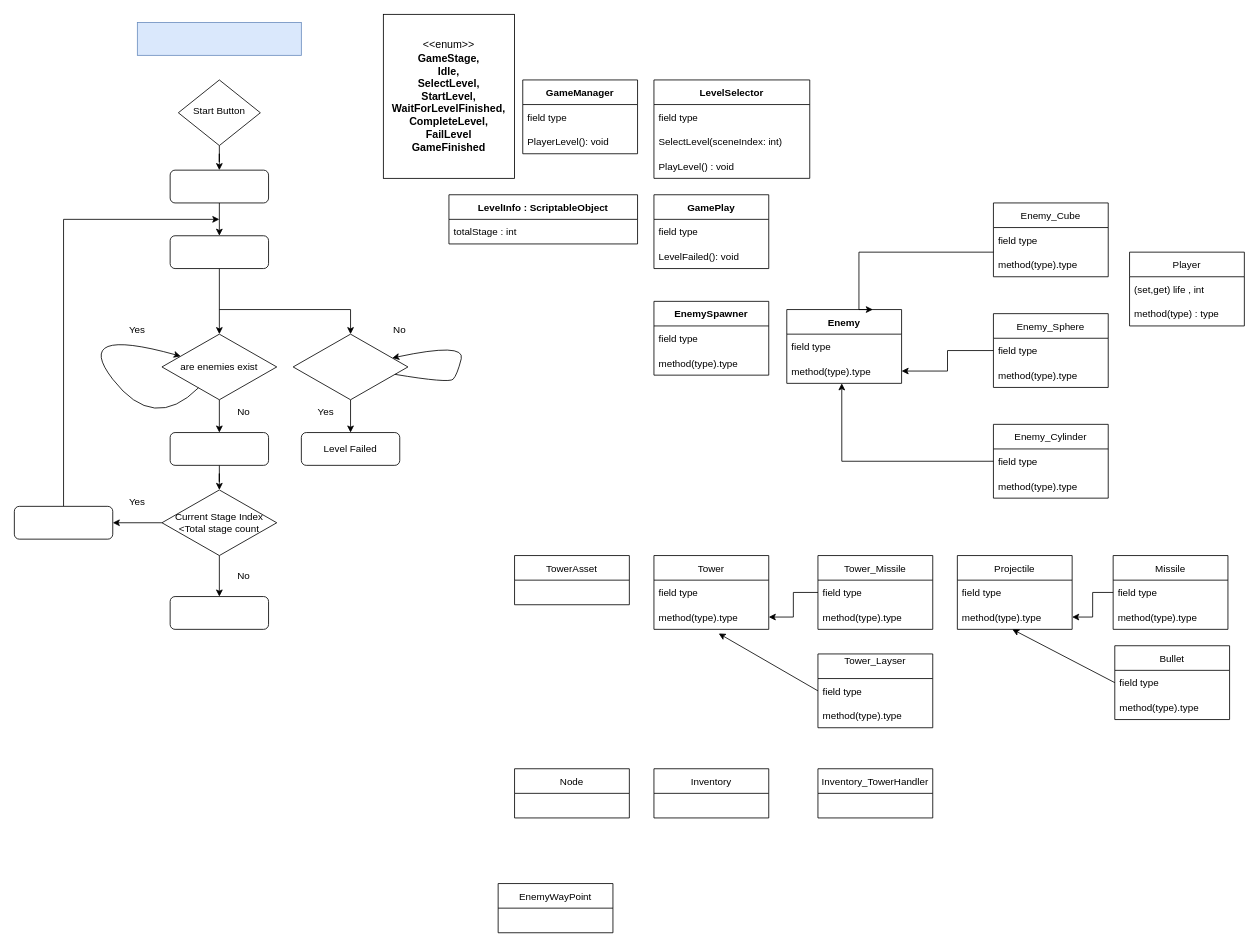
This 1259x947 diagram has some shape labels left out. The centre of each missing label's shape, as x and y in pixels:
"First Stage" goes at pixel 219 186.
"Level completed" goes at pixel 219 612.
"Next Stage" goes at pixel 63 522.
"player life <=0?" goes at pixel 350 366.
"Stage completed" goes at pixel 219 448.
"Start Spawn enemies" goes at pixel 219 252.
"Tower Defence Concept" goes at pixel 219 38.
